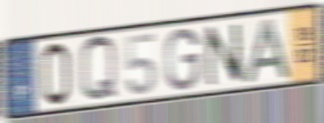0: (39, 40, 72, 108)
5: (124, 30, 158, 97)
A: (242, 16, 295, 86)
G: (163, 26, 202, 93)
N: (203, 21, 246, 88)
Q: (78, 34, 119, 105)
